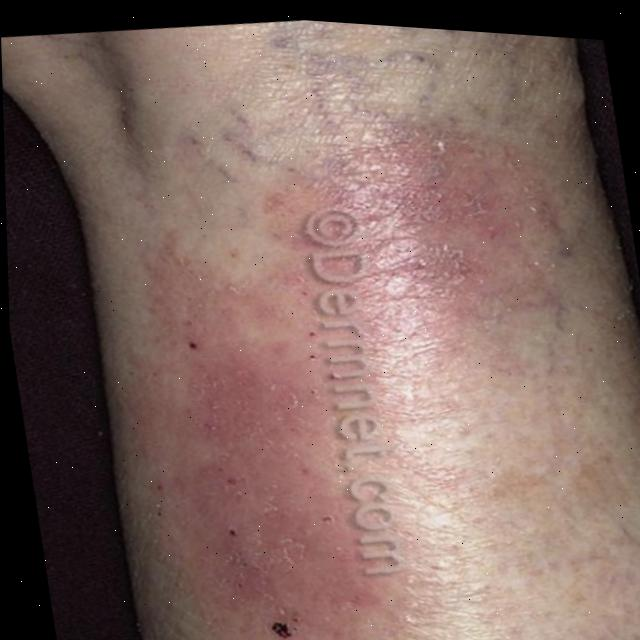Eczema: (127, 113, 600, 640)
